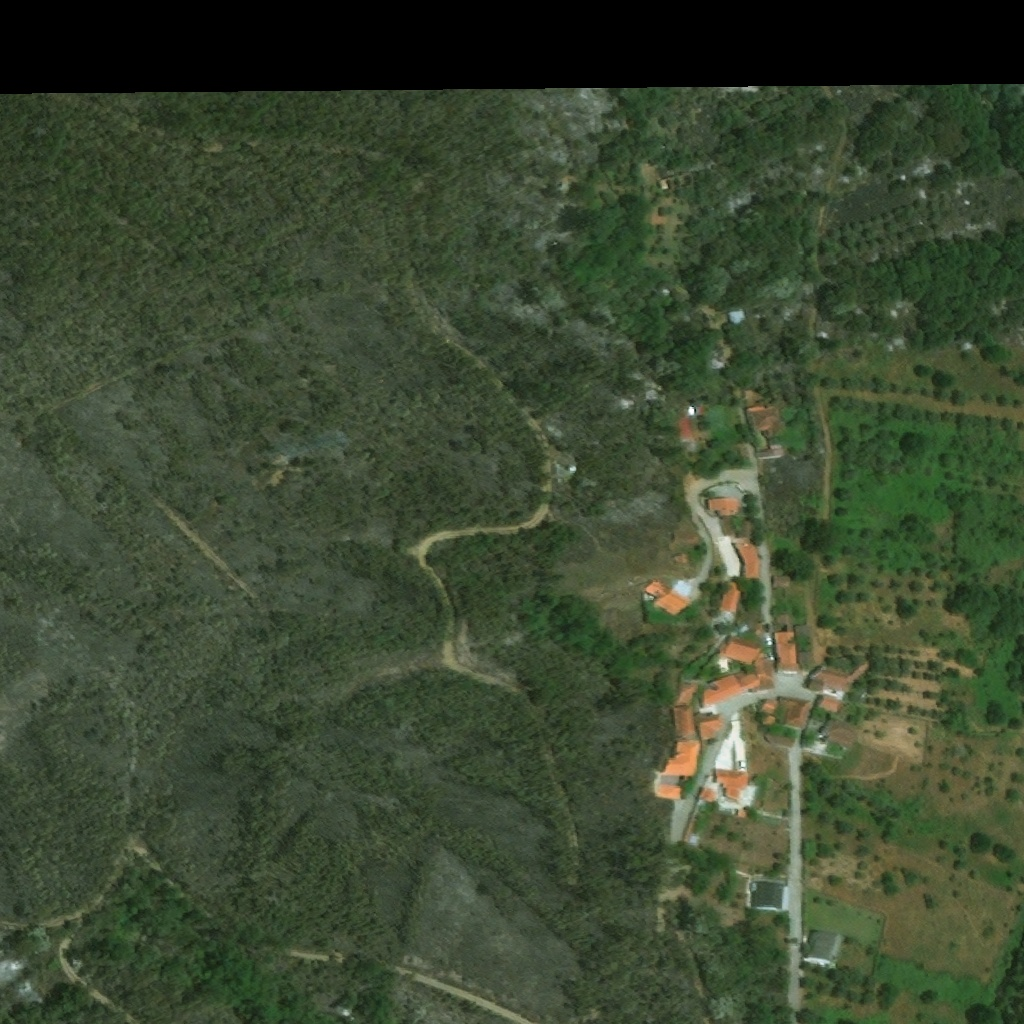0 no-damage: (805, 658, 873, 694), (697, 674, 760, 709), (641, 578, 693, 616), (773, 615, 800, 671), (821, 717, 862, 750), (743, 405, 783, 438), (660, 742, 697, 777), (805, 931, 841, 965), (713, 771, 747, 804), (778, 700, 810, 730), (750, 881, 782, 909), (734, 542, 758, 577), (723, 642, 761, 664), (721, 581, 742, 614), (794, 625, 811, 664), (668, 707, 692, 734), (668, 532, 700, 550), (697, 719, 722, 742), (683, 407, 704, 433), (707, 499, 737, 517), (679, 823, 699, 846), (756, 444, 782, 459), (815, 698, 840, 713), (673, 579, 693, 596), (654, 788, 678, 801), (736, 519, 751, 538), (696, 788, 713, 803), (771, 576, 790, 589), (761, 700, 778, 713), (673, 552, 689, 565), (759, 716, 775, 729), (728, 311, 743, 324), (782, 887, 788, 910), (736, 811, 747, 818), (568, 465, 576, 472), (737, 509, 743, 514)
